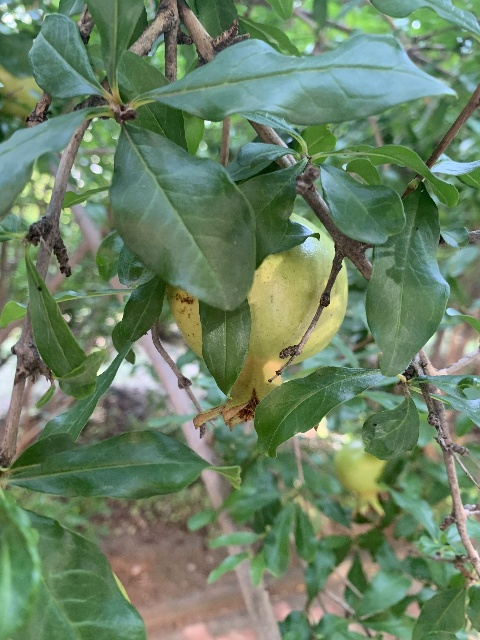mid-growth: (166, 212, 348, 432), (335, 446, 390, 520)
